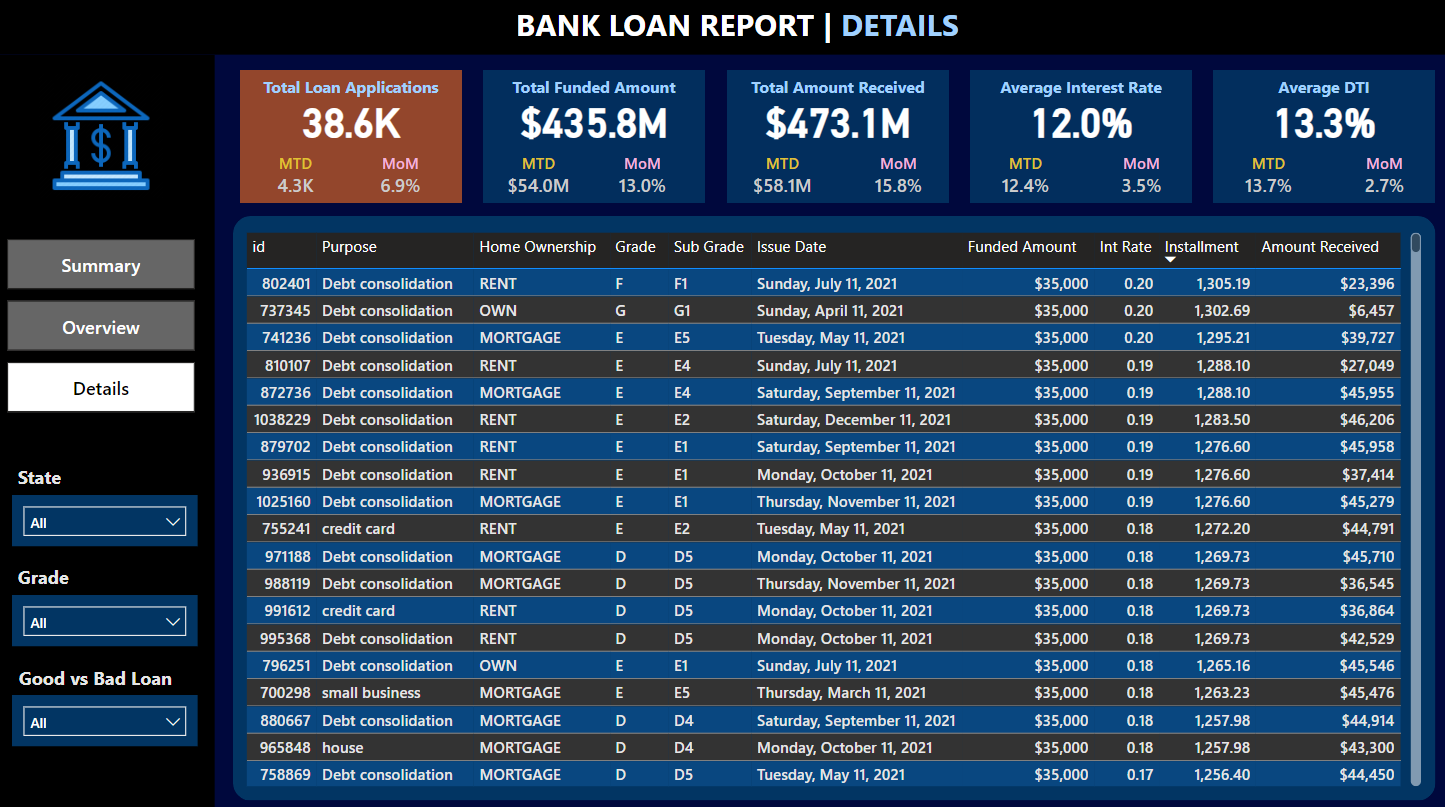

This screenshot's page, from the dashboard's own definition file:
{"tool":"powerbi","page":{"name":"Details","canvas":[1280,720],"ordinal":2},"visuals":[{"type":"shape","box":[0,55.3,192,665],"z":0},{"type":"shape","box":[214.2,68.5,194.9,116.8],"z":0,"group":"g1"},{"type":"shape","box":[427.8,68.5,194.9,116.8],"z":0,"group":"g2"},{"type":"shape","box":[641.4,68.5,194.9,116.8],"z":0,"group":"g3"},{"type":"shape","box":[855,68.5,194.9,116.8],"z":0,"group":"g4"},{"type":"shape","box":[1068.6,68.5,194.9,116.8],"z":0,"group":"g5"},{"type":"card","fields":{"Values":["bank_loan_data.Total Loan Applications"]},"box":[214.2,90.5,194.9,43.9],"z":1000,"group":"g1"},{"type":"card","fields":{"Values":["bank_loan_data.Total Funded Amount"]},"box":[427.8,90.5,194.9,43.9],"z":1000,"group":"g2"},{"type":"card","fields":{"Values":["bank_loan_data.Total Amount Received"]},"box":[641.4,90.5,194.9,43.9],"z":1000,"group":"g3"},{"type":"card","fields":{"Values":["bank_loan_data.Average Interest Rate"]},"box":[855,90.5,194.9,43.9],"z":1000,"group":"g4"},{"type":"card","fields":{"Values":["bank_loan_data.Average DTI"]},"box":[1068.6,90.5,194.9,43.9],"z":1000,"group":"g5"},{"type":"shape","box":[207.9,197.1,1055.8,513.4],"z":1000},{"type":"shape","box":[0,0,1280.2,55.3],"z":2000},{"type":"textbox","box":[214.2,68.5,194.9,31.6],"z":2000,"group":"g1"},{"type":"textbox","box":[427.8,68.5,194.9,31.6],"z":2000,"group":"g2"},{"type":"textbox","box":[641.4,68.5,194.9,31.6],"z":2000,"group":"g3"},{"type":"textbox","box":[855,68.5,194.9,31.6],"z":2000,"group":"g4"},{"type":"textbox","box":[1068.6,68.5,194.9,31.6],"z":2000,"group":"g5"},{"type":"textbox","box":[451.3,4.4,445.2,47.4],"z":3000},{"type":"card","title":"MTD","fields":{"Values":["bank_loan_data.MTD Loan Applications"]},"box":[225.6,141.4,74.6,43.9],"z":3000,"group":"g1"},{"type":"card","title":"MTD","fields":{"Values":["bank_loan_data.MTD Loan Funded Applications"]},"box":[439.2,141.4,74.6,43.9],"z":3000,"group":"g2"},{"type":"card","title":"MTD","fields":{"Values":["bank_loan_data.MTD Total Amount Received"]},"box":[652.8,141.4,74.6,43.9],"z":3000,"group":"g3"},{"type":"card","title":"MTD","fields":{"Values":["bank_loan_data.MTD Average Interest Rate"]},"box":[866.4,141.4,74.6,43.9],"z":3000,"group":"g4"},{"type":"card","title":"MTD","fields":{"Values":["bank_loan_data.MTD Average DTI"]},"box":[1080,141.4,74.6,43.9],"z":3000,"group":"g5"},{"type":"group","id":"g1","title":"Group 1","box":[214.2,68.5,194.9,116.8],"z":4000},{"type":"card","title":"MoM","fields":{"Values":["bank_loan_data.MoM Loan Applications"]},"box":[317.8,141.4,74.6,43.9],"z":4000,"group":"g1"},{"type":"group","id":"g2","title":"Group 1","box":[427.8,68.5,194.9,116.8],"z":5000},{"type":"card","title":"MoM","fields":{"Values":["bank_loan_data.MoM Total Funded Amount"]},"box":[530.3,141.4,74.6,43.9],"z":6000},{"type":"group","id":"g3","title":"Group 2","box":[641.4,68.5,194.9,116.8],"z":7000},{"type":"card","title":"MoM","fields":{"Values":["bank_loan_data.MoM Total Amount Received"]},"box":[754.7,141.4,74.6,43.9],"z":7000,"group":"g3"},{"type":"card","title":"MoM","fields":{"Values":["bank_loan_data.MoM Average Interest Rate"]},"box":[968.3,141.4,74.6,43.9],"z":7000,"group":"g4"},{"type":"card","title":"MoM","fields":{"Values":["bank_loan_data.MoM Average DTI"]},"box":[1181.9,141.4,74.6,43.9],"z":7000,"group":"g5"},{"type":"group","id":"g4","title":"Group 2","box":[855,68.5,194.9,116.8],"z":8000},{"type":"group","id":"g5","title":"Group 2","box":[1068.6,68.5,194.9,116.8],"z":9000},{"type":"slicer","fields":{"Values":["bank_loan_data.address_state"]},"box":[14.5,441.9,163.3,44.8],"z":10000},{"type":"textbox","box":[14.9,586.3,163.6,31.6],"z":11000},{"type":"slicer","fields":{"Values":["bank_loan_data.grade"]},"box":[14.5,529.7,163.3,44.8],"z":12000},{"type":"textbox","box":[14.5,498.1,79,31.6],"z":13000},{"type":"textbox","box":[14.5,410.3,88.7,31.6],"z":14000},{"type":"slicer","fields":{"Values":["bank_loan_data.Good vs Bad Loans"]},"box":[14.5,617.5,163.3,44.8],"z":15000},{"type":"tableEx","fields":{"Values":["bank_loan_data.id","bank_loan_data.purpose","bank_loan_data.home_ownership","bank_loan_data.grade","bank_loan_data.sub_grade","bank_loan_data.issue_date","bank_loan_data.Total Funded Amount","Sum(bank_loan_data.int_rate)","Sum(bank_loan_data.installment)","bank_loan_data.Total Amount Received"]},"box":[214.2,206.1,1042.3,496.3],"z":18001},{"type":"pageNavigator","box":[9.9,216.9,165.4,152.8],"z":18002},{"type":"image","box":[30.7,66.9,123.8,119.3],"z":18003}]}

Visuals, with their boxes in screenshot pixels (x1, y1, x2, y2), scaled from the page's 1280x720 canvas onto the 1445x807 screenshot:
shape: <region>0, 62, 217, 806</region>
shape: <region>242, 77, 462, 208</region>
shape: <region>483, 77, 703, 208</region>
shape: <region>724, 77, 944, 208</region>
shape: <region>965, 77, 1185, 208</region>
shape: <region>1206, 77, 1426, 208</region>
card - bank_loan_data.Total Loan Applications: <region>242, 101, 462, 151</region>
card - bank_loan_data.Total Funded Amount: <region>483, 101, 703, 151</region>
card - bank_loan_data.Total Amount Received: <region>724, 101, 944, 151</region>
card - bank_loan_data.Average Interest Rate: <region>965, 101, 1185, 151</region>
card - bank_loan_data.Average DTI: <region>1206, 101, 1426, 151</region>
shape: <region>235, 221, 1427, 796</region>
shape: <region>0, 0, 1444, 62</region>
textbox: <region>242, 77, 462, 112</region>
textbox: <region>483, 77, 703, 112</region>
textbox: <region>724, 77, 944, 112</region>
textbox: <region>965, 77, 1185, 112</region>
textbox: <region>1206, 77, 1426, 112</region>
textbox: <region>509, 5, 1012, 58</region>
"MTD" card: <region>255, 158, 339, 208</region>
"MTD" card: <region>496, 158, 580, 208</region>
"MTD" card: <region>737, 158, 821, 208</region>
"MTD" card: <region>978, 158, 1062, 208</region>
"MTD" card: <region>1219, 158, 1303, 208</region>
"Group 1" group: <region>242, 77, 462, 208</region>
"MoM" card: <region>359, 158, 443, 208</region>
"Group 1" group: <region>483, 77, 703, 208</region>
"MoM" card: <region>599, 158, 683, 208</region>
"Group 2" group: <region>724, 77, 944, 208</region>
"MoM" card: <region>852, 158, 936, 208</region>
"MoM" card: <region>1093, 158, 1177, 208</region>
"MoM" card: <region>1334, 158, 1418, 208</region>
"Group 2" group: <region>965, 77, 1185, 208</region>
"Group 2" group: <region>1206, 77, 1426, 208</region>
slicer - bank_loan_data.address_state: <region>16, 495, 201, 546</region>
textbox: <region>17, 657, 202, 693</region>
slicer - bank_loan_data.grade: <region>16, 594, 201, 644</region>
textbox: <region>16, 558, 106, 594</region>
textbox: <region>16, 460, 117, 495</region>
slicer - bank_loan_data.Good vs Bad Loans: <region>16, 692, 201, 742</region>
tableEx - bank_loan_data.id x bank_loan_data.purpose: <region>242, 231, 1418, 787</region>
pageNavigator: <region>11, 243, 198, 414</region>
image: <region>35, 75, 174, 209</region>
